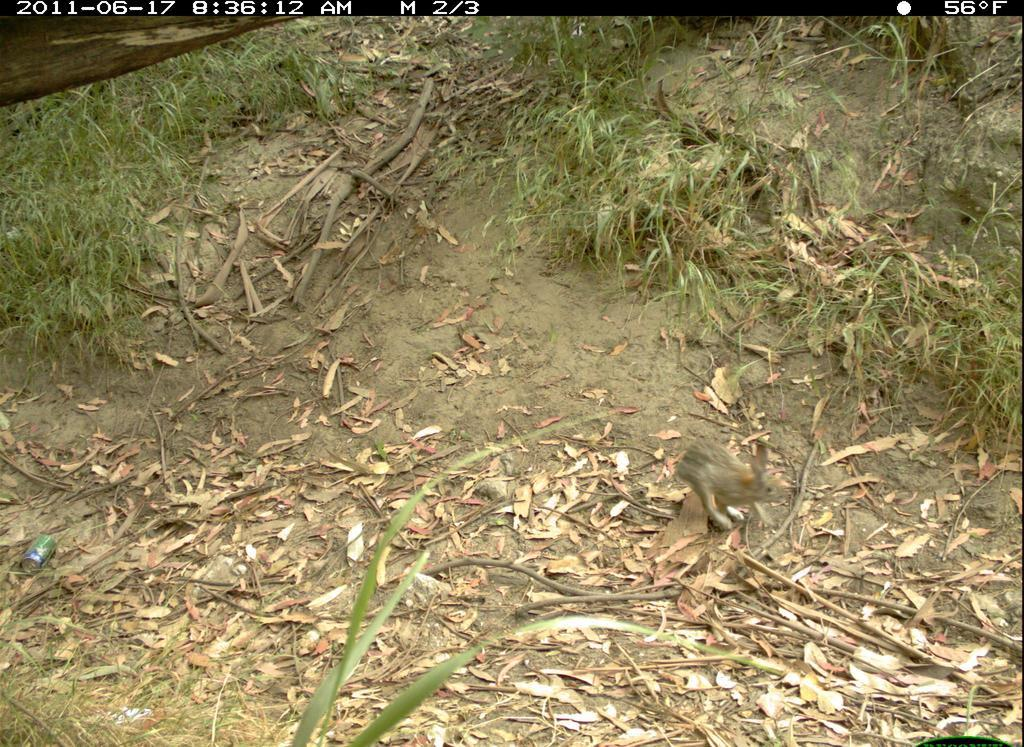rabbit: (679, 422, 797, 537)
